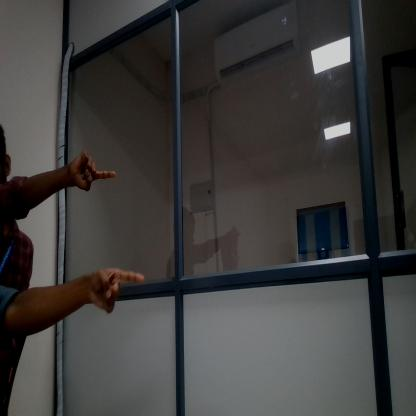Left: (89, 254, 148, 313), (67, 138, 120, 198)
